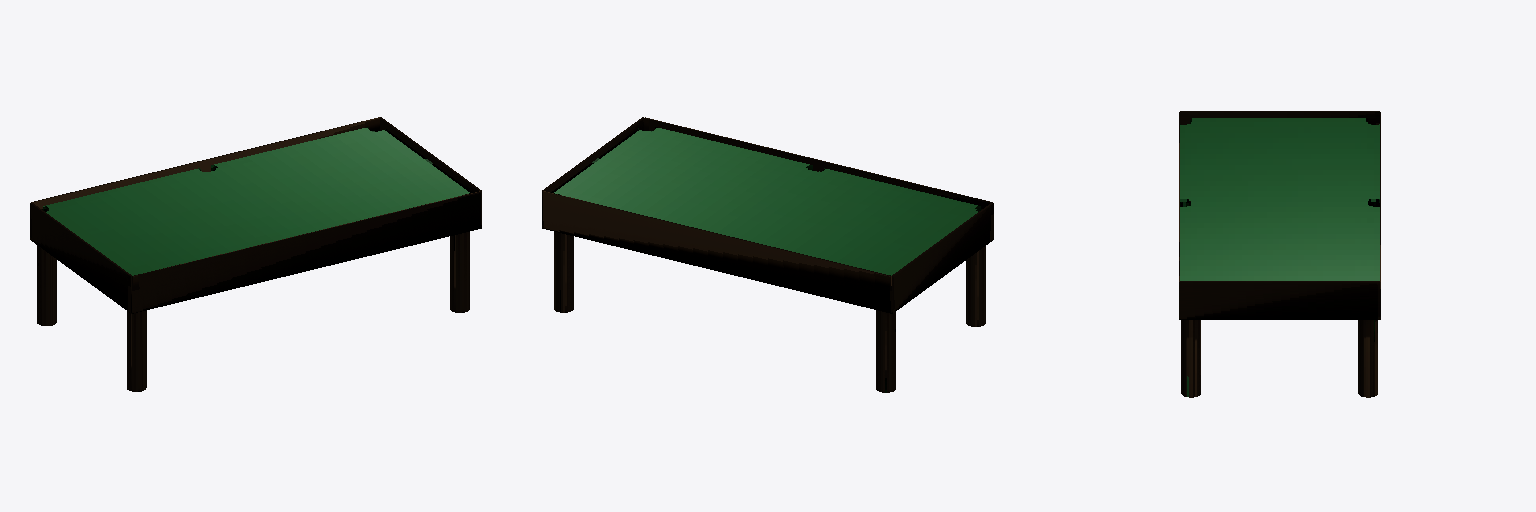
3 views of the same model, side by side, from view 1: azimuth 30°, elevation 25°; view 2: azimuth 150°, elevation 25°; view 3: azimuth 270°, elevation 25° (orthographic).
Parts seen in each view (by area): view 1: Table_Cube.003; view 2: Table_Cube.003; view 3: Table_Cube.003.
Boxes of the visible parts, x1=… form: Table_Cube.003: x1=30, y1=117, x2=481, y2=391; Table_Cube.003: x1=542, y1=117, x2=993, y2=392; Table_Cube.003: x1=1179, y1=111, x2=1380, y2=397.
Size of the model in its own units: 4.04 by 1.31 by 2.02.
Materials: 1 (1 with a texture image).